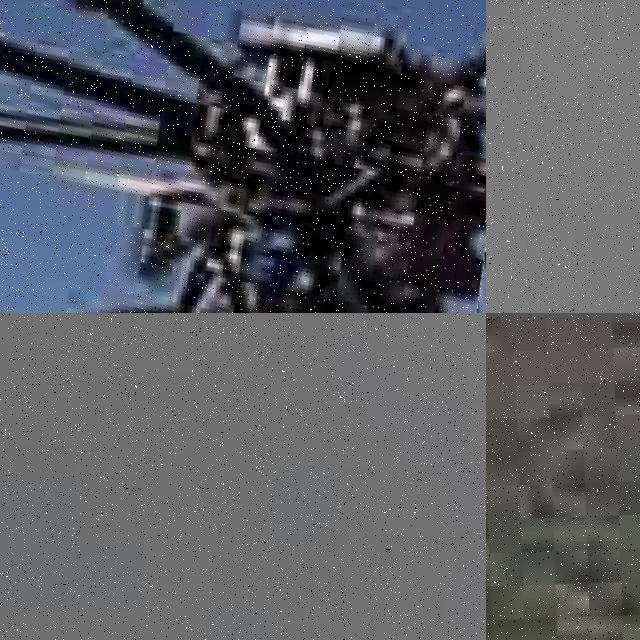drone: (0, 0, 486, 313)
